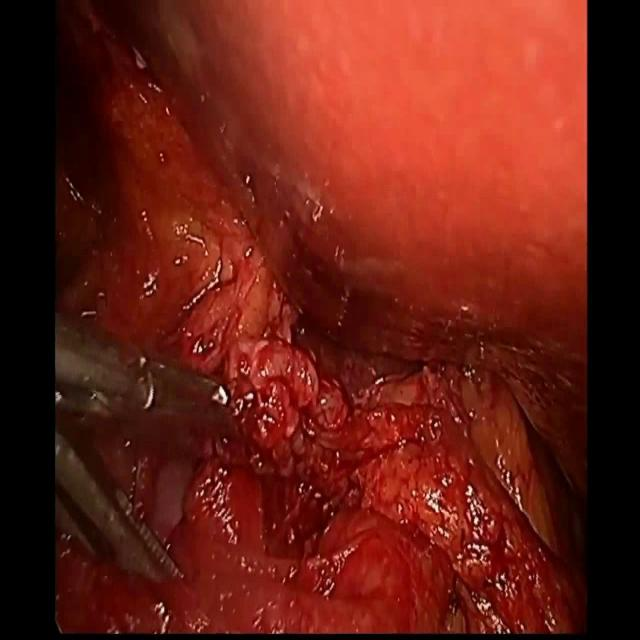surgical-area: (56, 0, 586, 632)
surgical-tool: (56, 313, 227, 585)
